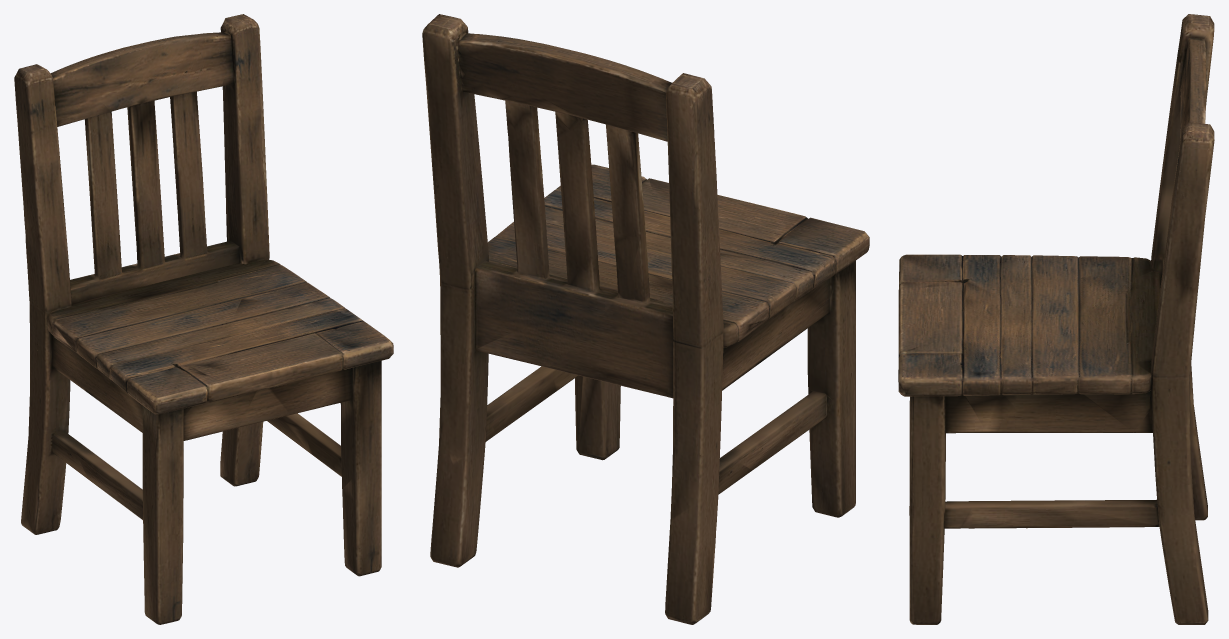
The model's file is Silla.glb.
3 renders of one model, left to right at view 1: azimuth 30°, elevation 25°; view 2: azimuth 150°, elevation 25°; view 3: azimuth 270°, elevation 25°, orthographic. The views are drawn at different scales.
Parts seen in each view (by area): view 1: node_0; view 2: node_0; view 3: node_0.
Part boxes in pixels (<box>): node_0: <box>14,14,393,624</box>; node_0: <box>422,14,869,624</box>; node_0: <box>898,14,1214,624</box>.
Bounding box in the file's own units: 0.5246 × 0.9599 × 0.5558.
1 material, 1 textured.
